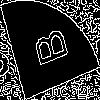B: (25, 24, 69, 73)
